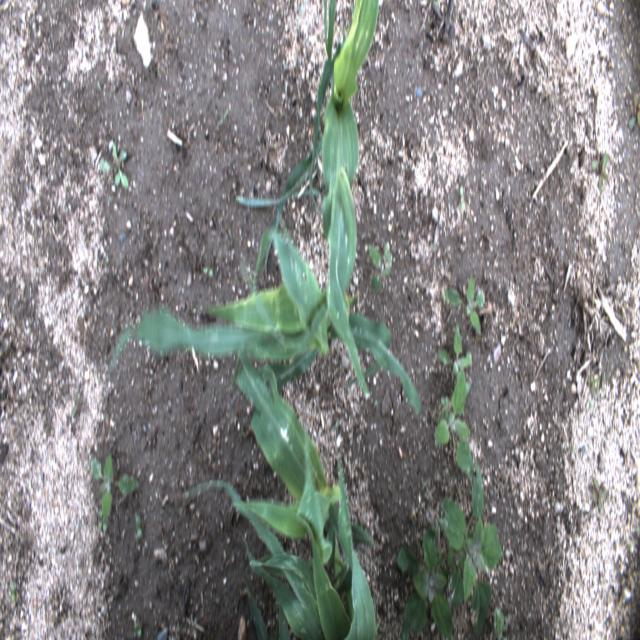crop: (109, 164, 422, 415), (180, 360, 374, 634), (235, 1, 381, 286)
weed: (441, 456, 503, 639), (394, 514, 453, 639), (91, 450, 140, 534), (432, 373, 472, 475), (443, 272, 486, 337), (437, 318, 473, 378), (100, 141, 128, 191), (367, 241, 393, 294), (591, 150, 610, 196), (590, 476, 608, 512), (628, 93, 640, 130), (69, 386, 83, 417), (493, 603, 503, 635), (134, 512, 143, 542), (216, 109, 229, 128), (459, 183, 466, 212), (134, 620, 143, 639), (10, 579, 16, 605), (589, 376, 598, 392), (202, 266, 214, 278), (96, 78, 102, 94), (164, 361, 169, 376), (626, 83, 632, 95), (589, 398, 593, 413), (430, 242, 436, 250)
